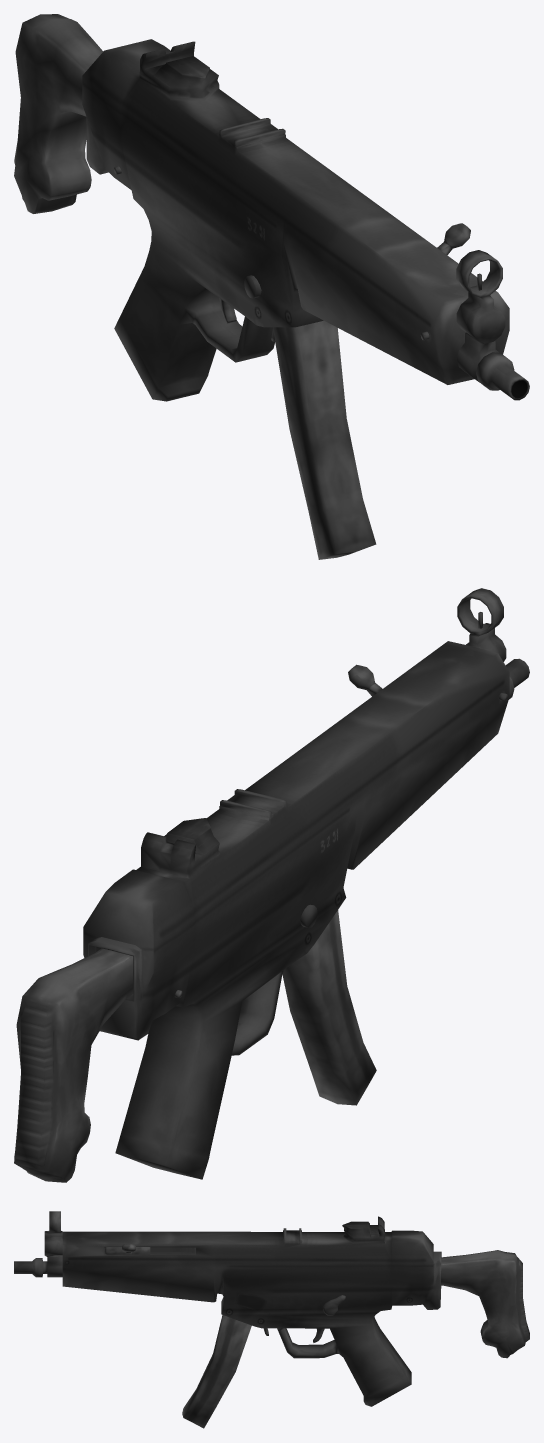
3 views of the same model, one above another, from view 1: azimuth 30°, elevation 25°; view 2: azimuth 150°, elevation 25°; view 3: azimuth 270°, elevation 25° (orthographic). The views are drawn at different scales.
Visible parts, largest first — view 1: MP5, MP5Magazine, MP5Tail; view 2: MP5, MP5Tail, MP5Magazine; view 3: MP5, MP5Tail, MP5Magazine, MP5Slide.
Boxes of the visible parts, <box> form: MP5: <box>82,39,529,401</box>; MP5Magazine: <box>273,320,376,559</box>; MP5Tail: <box>14,14,102,213</box>; MP5: <box>83,588,529,1179</box>; MP5Tail: <box>14,948,133,1182</box>; MP5Magazine: <box>282,910,376,1105</box>; MP5: <box>14,1211,441,1406</box>; MP5Tail: <box>441,1250,529,1358</box>; MP5Magazine: <box>182,1315,251,1428</box>; MP5Slide: <box>105,1244,150,1254</box>.
Size of the model in its own units: 5.77 by 22.29 by 49.01.
